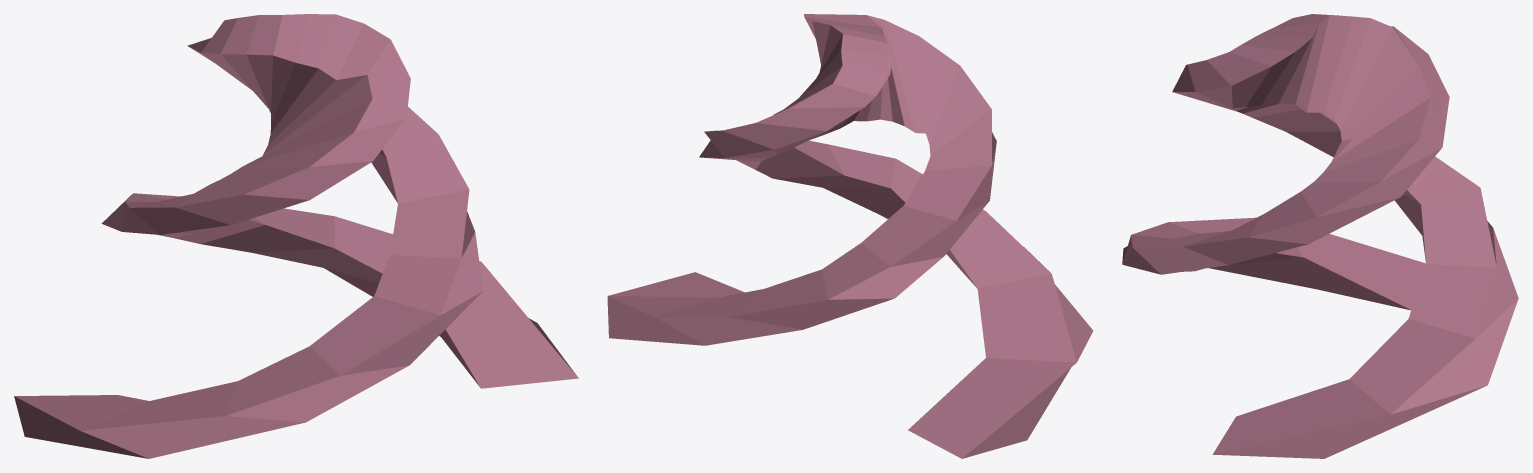
Rendered from Arch_05.fbx.
3 views of the same model, side by side, from view 1: azimuth 30°, elevation 25°; view 2: azimuth 150°, elevation 25°; view 3: azimuth 270°, elevation 25° (orthographic). The views are drawn at different scales.
Visible parts, largest first — view 1: Arch_05; view 2: Arch_05; view 3: Arch_05.
Boxes of the visible parts, x1,y1,x2,y2 form: Arch_05: (14,14,578,458); Arch_05: (607,14,1093,458); Arch_05: (1122,14,1518,458).
Bounding box in the file's own units: 2086 × 1583 × 1631.
